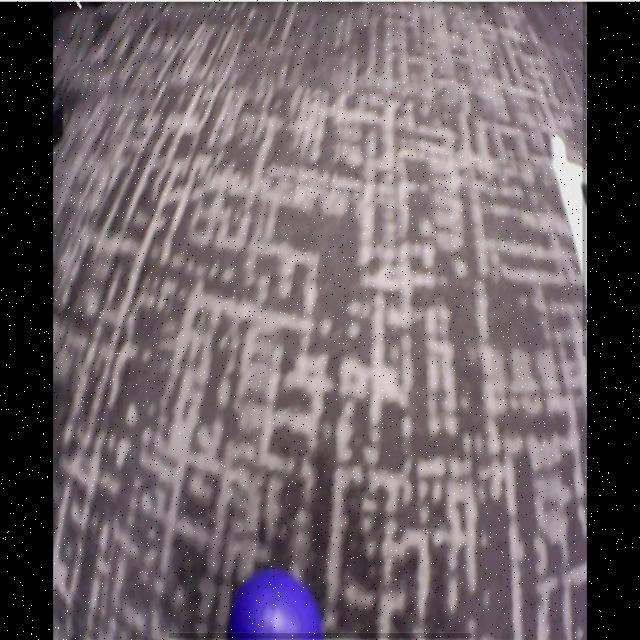ball: (229, 570, 322, 640)
